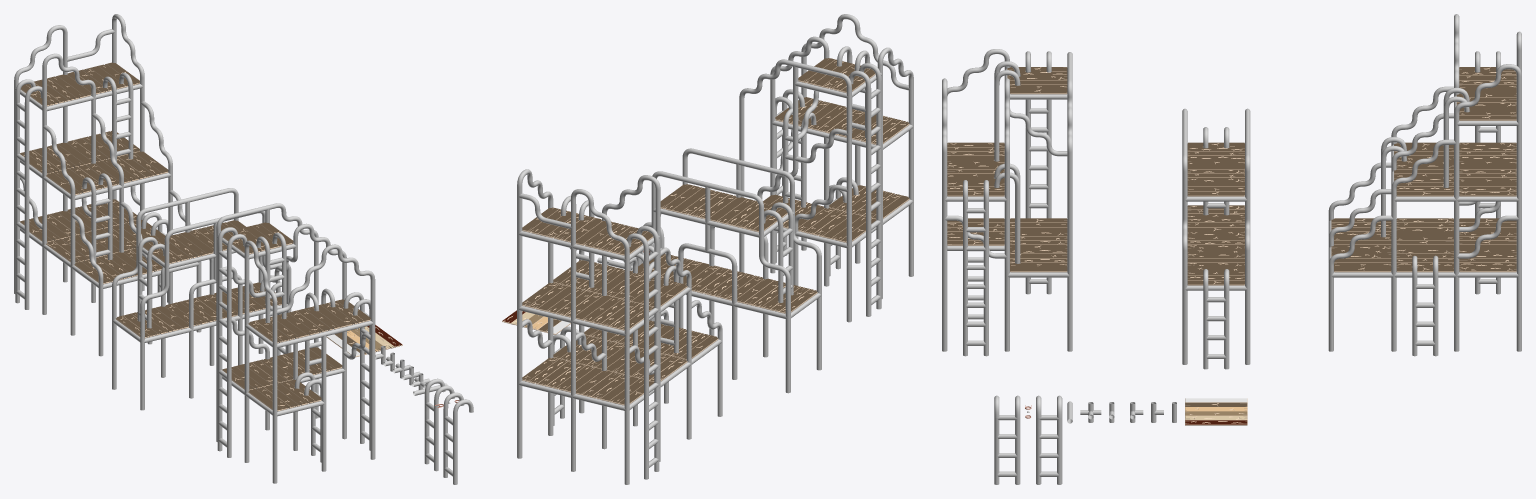
Rendered from ScaffoldingStructures.glb.
3 views of the same model, side by side, from view 1: azimuth 30°, elevation 25°; view 2: azimuth 150°, elevation 25°; view 3: azimuth 270°, elevation 25° (orthographic). The views are drawn at different scales.
Parts seen in each view (by area): view 1: Scaffolding Structure 3_23, Scaffolding Structure 1_24, Scaffolding Structure 2_22, Ladder_14, Ladder Rung_12; view 2: Scaffolding Structure 3_23, Scaffolding Structure 1_24, Scaffolding Structure 2_22; view 3: Scaffolding Structure 3_23, Scaffolding Structure 1_24, Scaffolding Structure 2_22, Ladder_14, Ladder Rung_12.
Boxes of the visible parts, x1,y1,x2,y2 form: Scaffolding Structure 3_23: [14, 14, 201, 356]; Scaffolding Structure 1_24: [216, 203, 375, 483]; Scaffolding Structure 2_22: [112, 188, 291, 410]; Ladder_14: [443, 392, 473, 484]; Ladder Rung_12: [424, 395, 438, 471]; Scaffolding Structure 3_23: [517, 169, 722, 484]; Scaffolding Structure 1_24: [739, 14, 913, 322]; Scaffolding Structure 2_22: [629, 148, 821, 393]; Scaffolding Structure 3_23: [1328, 14, 1521, 356]; Scaffolding Structure 1_24: [942, 49, 1072, 356]; Scaffolding Structure 2_22: [1182, 108, 1250, 369]; Ladder_14: [994, 395, 1020, 484]; Ladder Rung_12: [1036, 415, 1062, 484].
Bounding box in the file's own units: 32.25 × 38.25 × 55.5.
